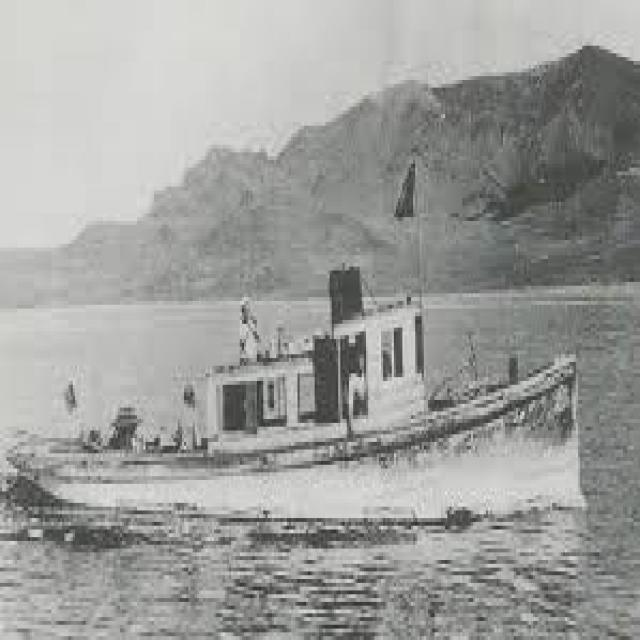fishing boat: (28, 258, 634, 536)
